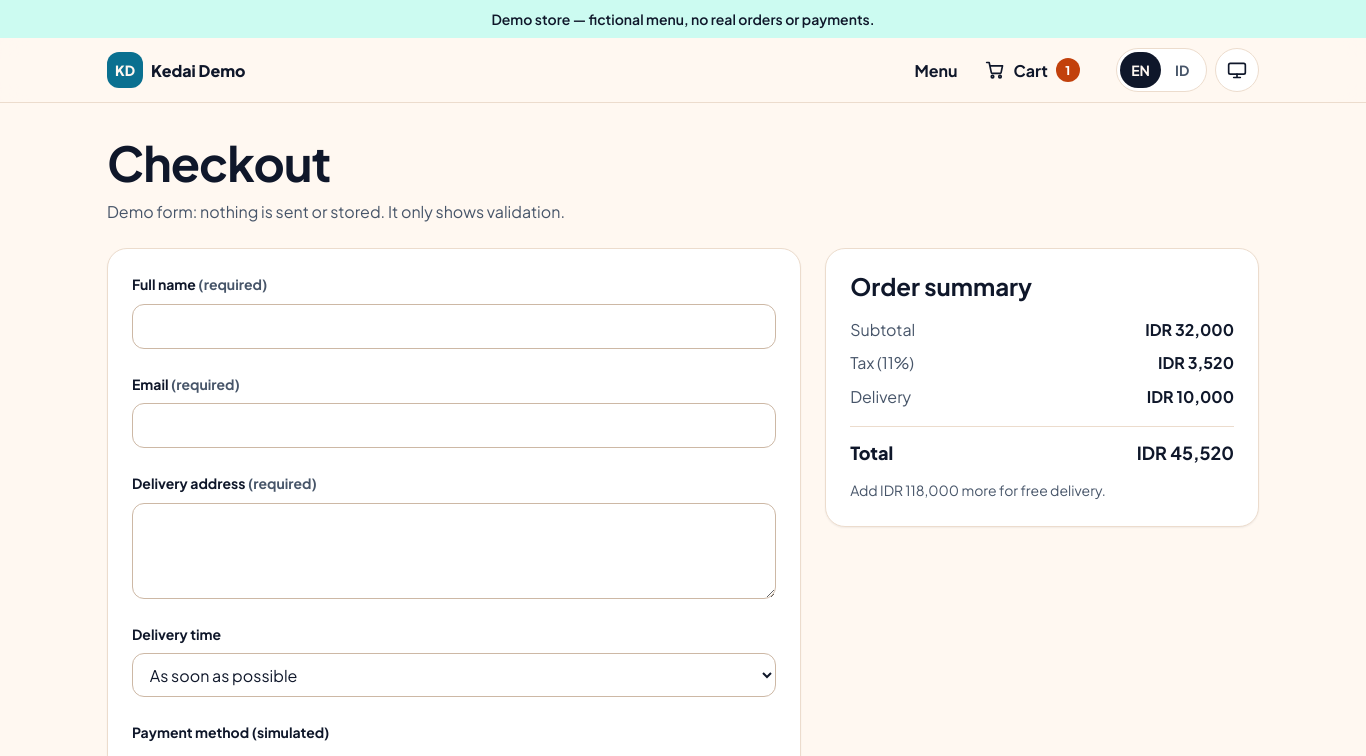
Scenario: checkout › confirms a valid demo order and empties the cart
Type "Budi Santoso" into the field labelled "Full name (required)" at (454, 326), box [132,304,776,349]
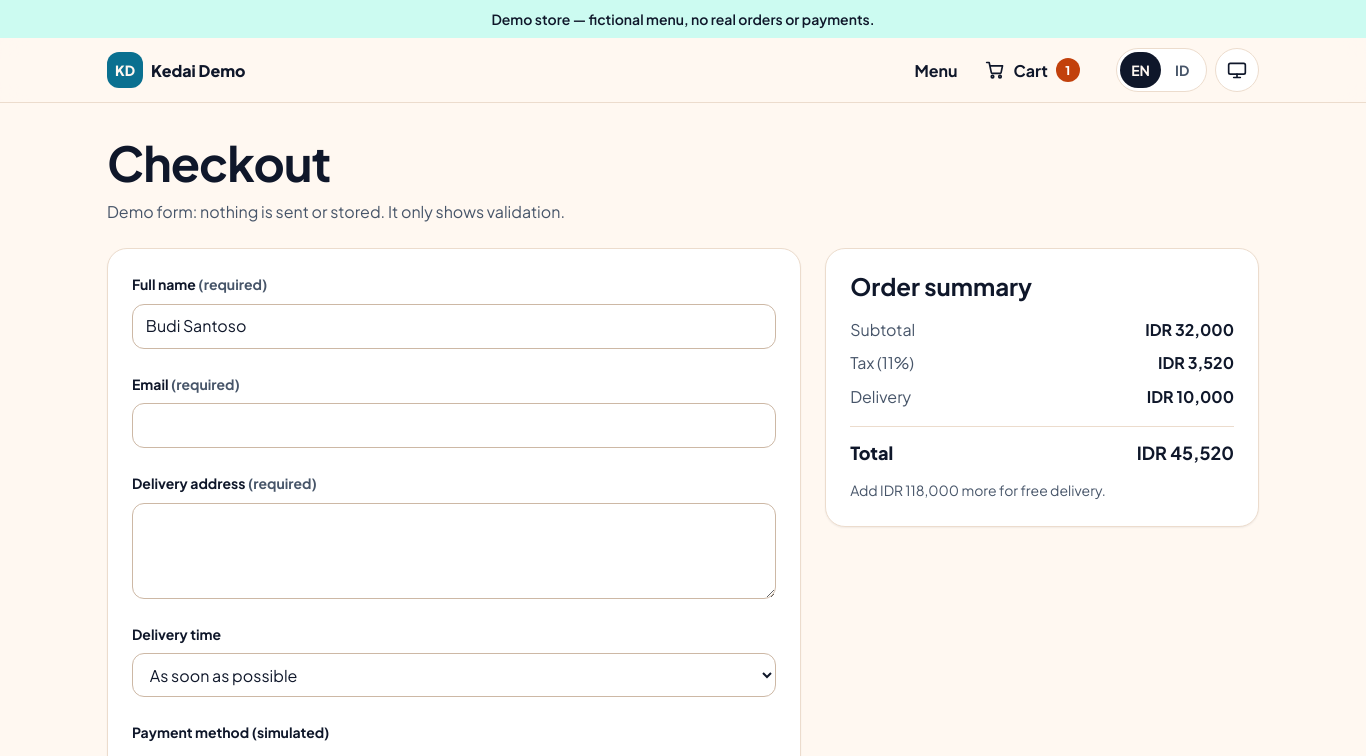
Type "budi@example.com" into the field labelled "Email (required)" at (454, 426), box [132,403,776,448]
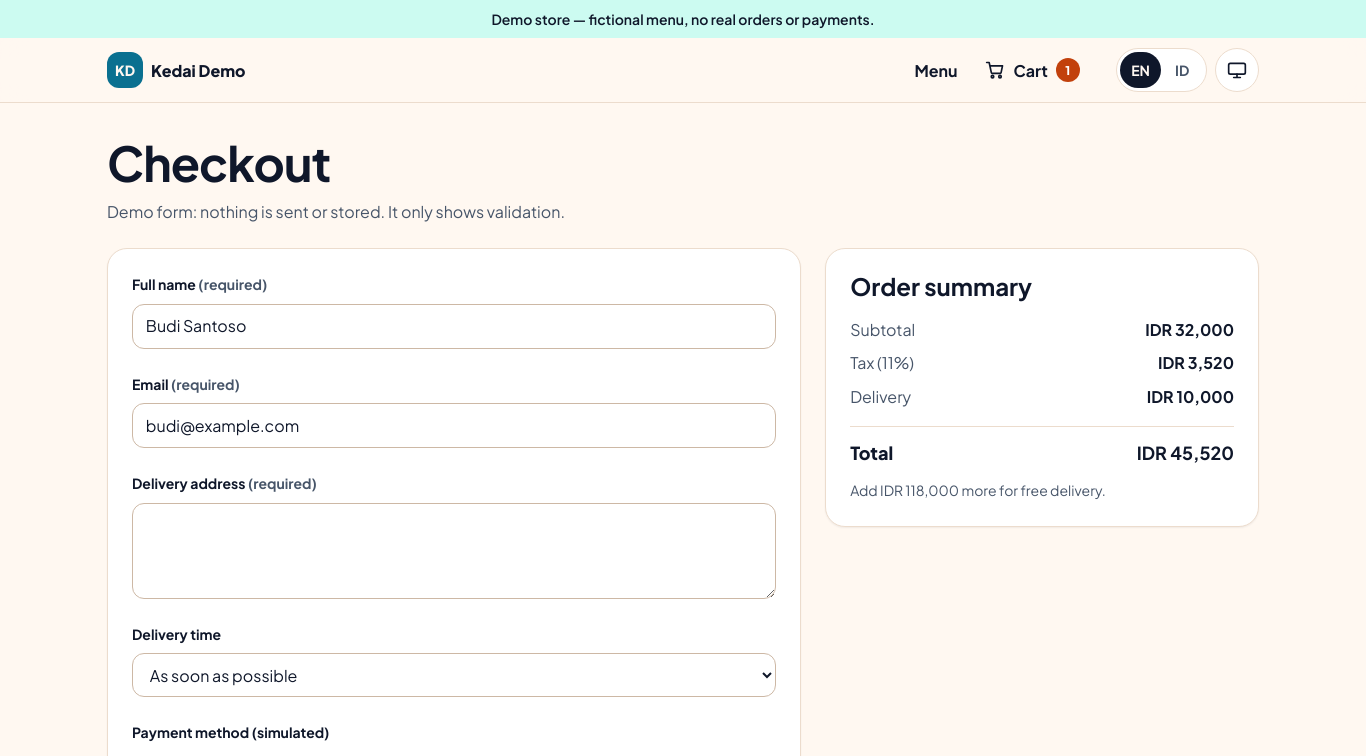
Type "Jl. Contoh No. 1, Jakarta" into the text box labelled "Delivery address (required)" at (454, 551), box [132,503,776,599]
(page scrolled)
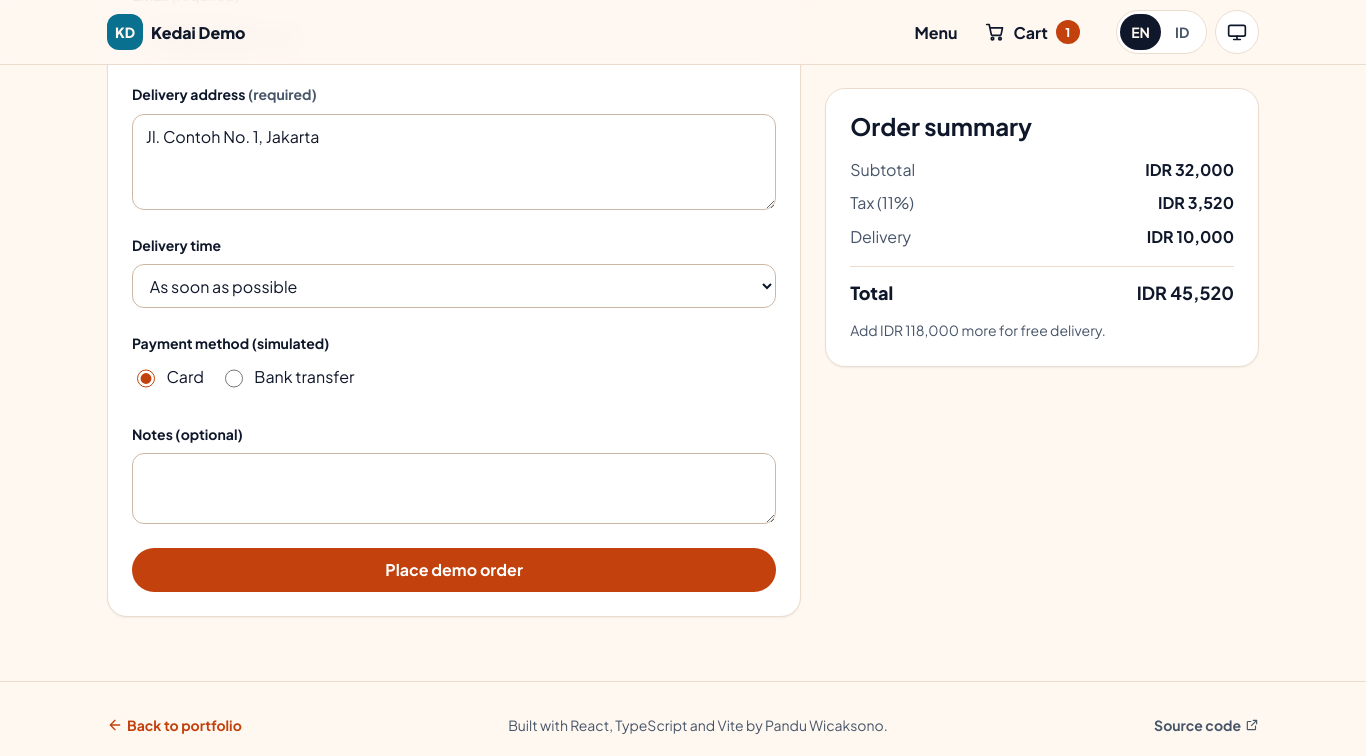
Click the button "Place demo order" at (454, 570), box [132,548,776,592]
(page scrolled)
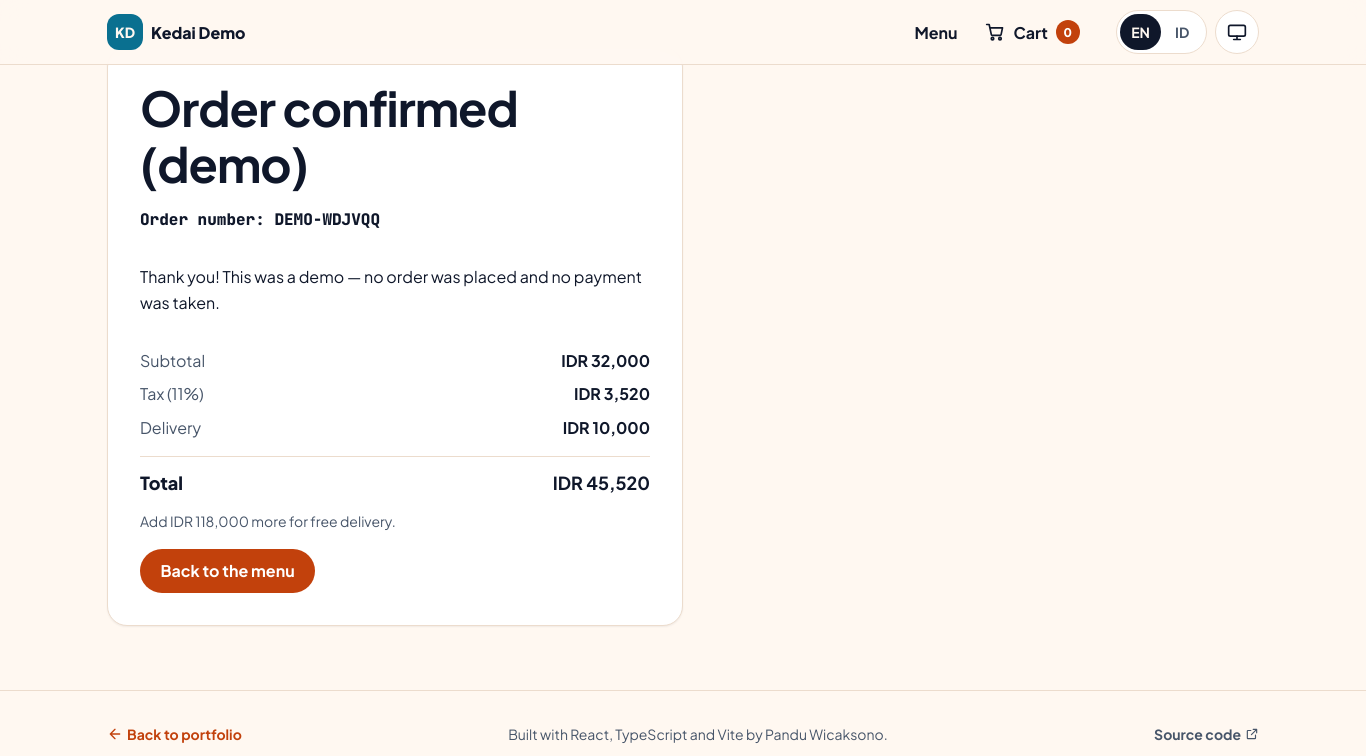
Expected: the heading "Order confirmed (demo)" is shown, [140,77,518,194]
Expected: the text "Order number: DEMO-" is shown, [140,209,380,230]
Expected: the link with aria-label "Cart, 0 items" is shown, [986,20,1080,44]
